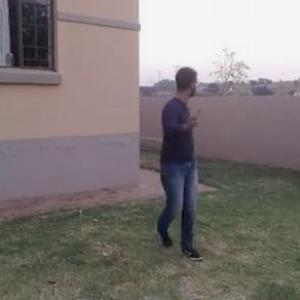takeoff-hand: (173, 103, 204, 132)
